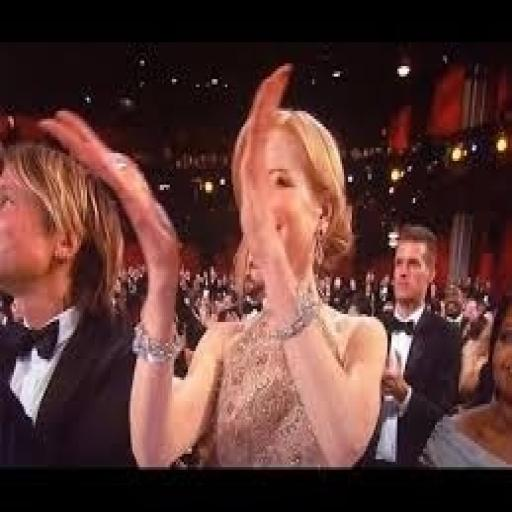clapping: (0, 53, 438, 512)
